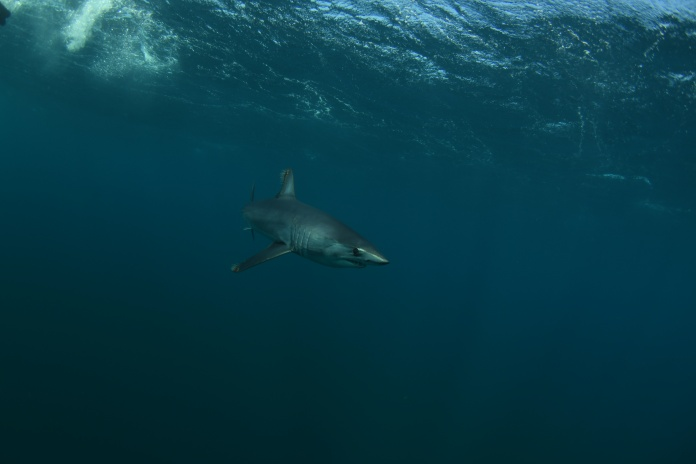Mako: (201, 165, 394, 277)
